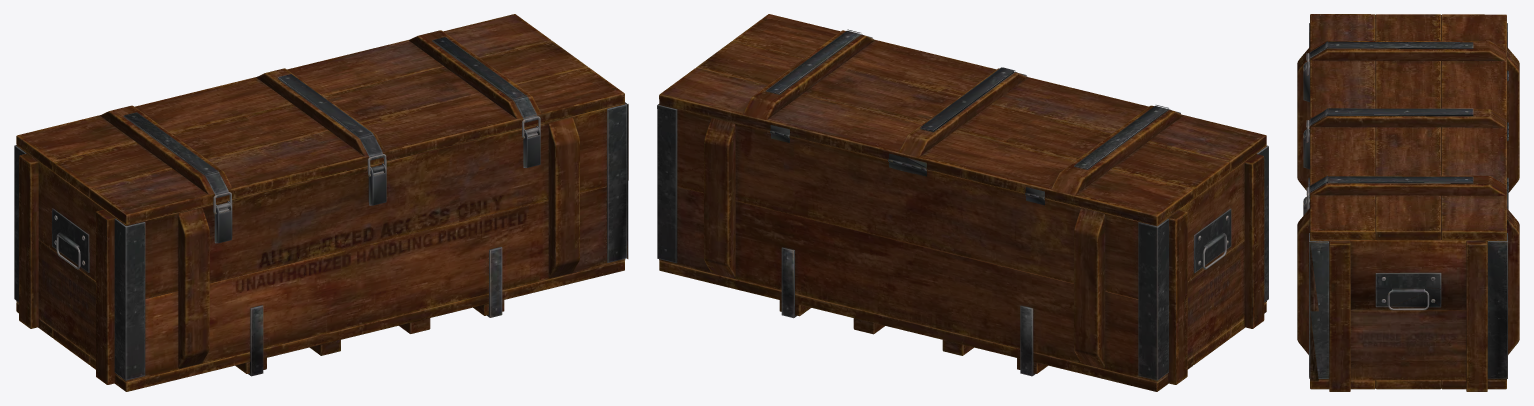
The model's file is wooden_military_crate.glb.
3 renders of one model, left to right at view 1: azimuth 30°, elevation 25°; view 2: azimuth 150°, elevation 25°; view 3: azimuth 270°, elevation 25°, orthographic. The views are drawn at different scales.
Visible parts, largest first — view 1: wooden_military_crate; view 2: wooden_military_crate; view 3: wooden_military_crate.
Boxes of the visible parts, x1,y1,x2,y2 form: wooden_military_crate: (14,14,628,391); wooden_military_crate: (657,14,1268,391); wooden_military_crate: (1297,14,1519,391).
Bounding box in the file's own units: 1.24 × 0.4678 × 0.5198.
Materials: 1 (1 with a texture image).
